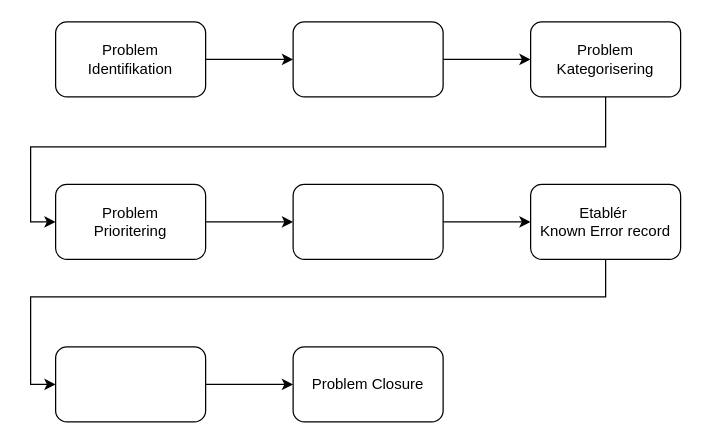
The diagram is 703 pixels wide and 444 high, and some of its shapes have lost their labels. Each missing label, with the centre of its shape:
Problem Diagnose: point (367, 221)
Problem Logging: point (367, 59)
Resolution og Recovery: point (130, 384)
